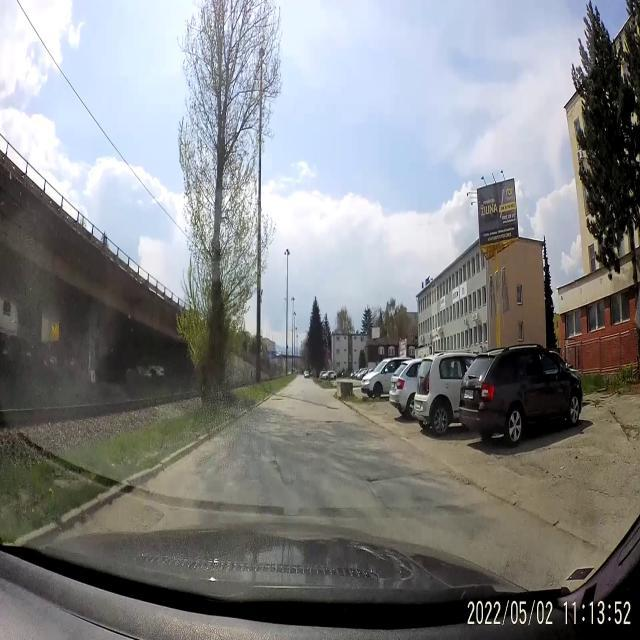Pothole: (268, 454, 292, 488), (361, 467, 387, 488), (324, 417, 346, 428), (302, 430, 318, 439), (271, 395, 286, 403)
